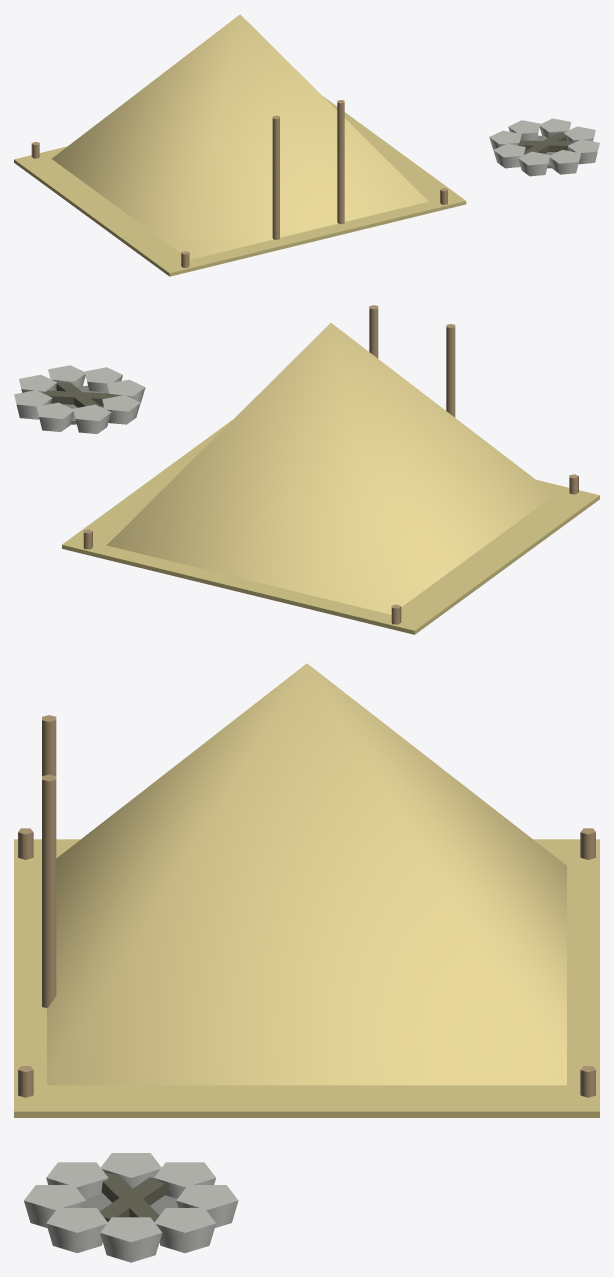
The model's file is camp.glb.
3 renders of one model, top to bottom at view 1: azimuth 30°, elevation 25°; view 2: azimuth 150°, elevation 25°; view 3: azimuth 270°, elevation 25°, orthographic. The views are drawn at different scales.
Visible parts, largest first — view 1: tent, ground_cloth, pole_L, pole_R, stone3, stone2, stone4, stone1, stone6, stone7, stone5, stone0 (+2 smaller); view 2: tent, ground_cloth, pole_L, stone5, stone6, stone4, stone7, stone2, log_A, stone1, stone3, stone0 (+1 smaller); view 3: tent, ground_cloth, pole_R, stone0, stone1, stone7, stone2, stone6, stone3, stone5, stone4, log_B (+2 smaller).
Boxes of the visible parts, x1=… form: tent: x1=52, y1=14, x2=428, y2=259; ground_cloth: x1=14, y1=95, x2=466, y2=276; pole_L: x1=272, y1=115, x2=279, y2=239; pole_R: x1=337, y1=100, x2=344, y2=224; stone3: x1=518, y1=151, x2=550, y2=176; stone2: x1=549, y1=150, x2=580, y2=174; stone4: x1=493, y1=143, x2=525, y2=168; stone1: x1=567, y1=139, x2=599, y2=164; stone6: x1=508, y1=120, x2=540, y2=140; stone7: x1=539, y1=118, x2=571, y2=137; stone5: x1=489, y1=130, x2=521, y2=149; stone0: x1=563, y1=126, x2=595, y2=142; tent: x1=106, y1=323, x2=554, y2=614; ground_cloth: x1=62, y1=419, x2=599, y2=634; pole_L: x1=446, y1=324, x2=455, y2=417; stone5: x1=73, y1=404, x2=111, y2=433; stone6: x1=36, y1=402, x2=74, y2=431; stone4: x1=102, y1=395, x2=140, y2=424; stone7: x1=14, y1=390, x2=52, y2=419; stone2: x1=84, y1=367, x2=122, y2=392; log_A: x1=41, y1=390, x2=118, y2=406; stone1: x1=48, y1=365, x2=85, y2=389; stone3: x1=107, y1=379, x2=145, y2=402; stone0: x1=19, y1=374, x2=57, y2=392; tent: x1=47, y1=663, x2=566, y2=1085; ground_cloth: x1=14, y1=839, x2=599, y2=1117; pole_R: x1=42, y1=774, x2=56, y2=1007; stone0: x1=100, y1=1217, x2=162, y2=1262; stone1: x1=46, y1=1208, x2=107, y2=1253; stone7: x1=154, y1=1208, x2=215, y2=1253; stone2: x1=24, y1=1185, x2=85, y2=1227; stone6: x1=176, y1=1185, x2=238, y2=1227; stone3: x1=46, y1=1162, x2=108, y2=1198; stone5: x1=154, y1=1162, x2=215, y2=1198; stone4: x1=101, y1=1153, x2=161, y2=1188; log_B: x1=100, y1=1177, x2=166, y2=1221.
Bounding box in the file's own units: 8.48 × 3 × 5.
